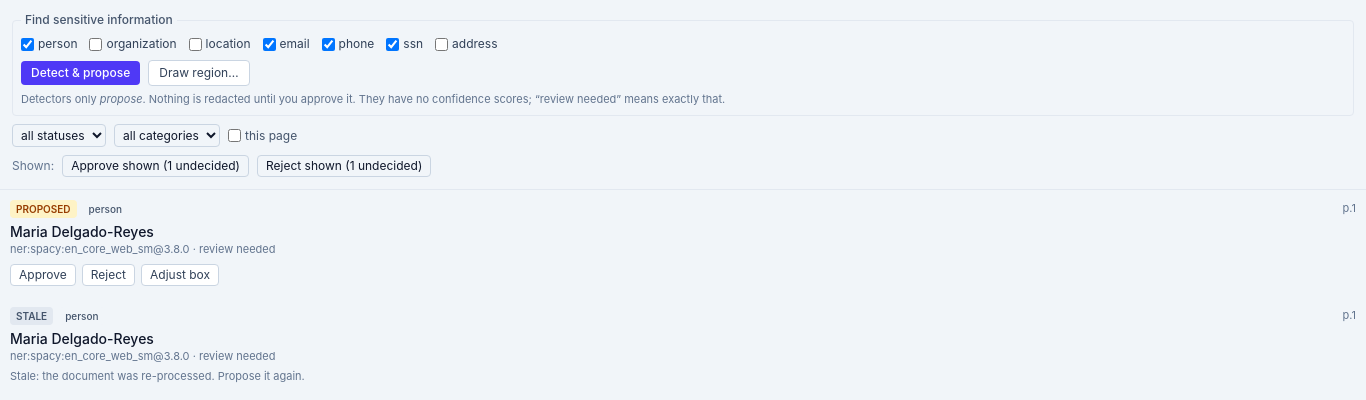
Test: FindingsPanel: bulk buttons never overwrite a decision the reviewer already made › never sends stale findings, even when filtered to "stale"
Select "stale" in the dropdown named "Filter by status" at (59, 136), box [12,124,106,147]
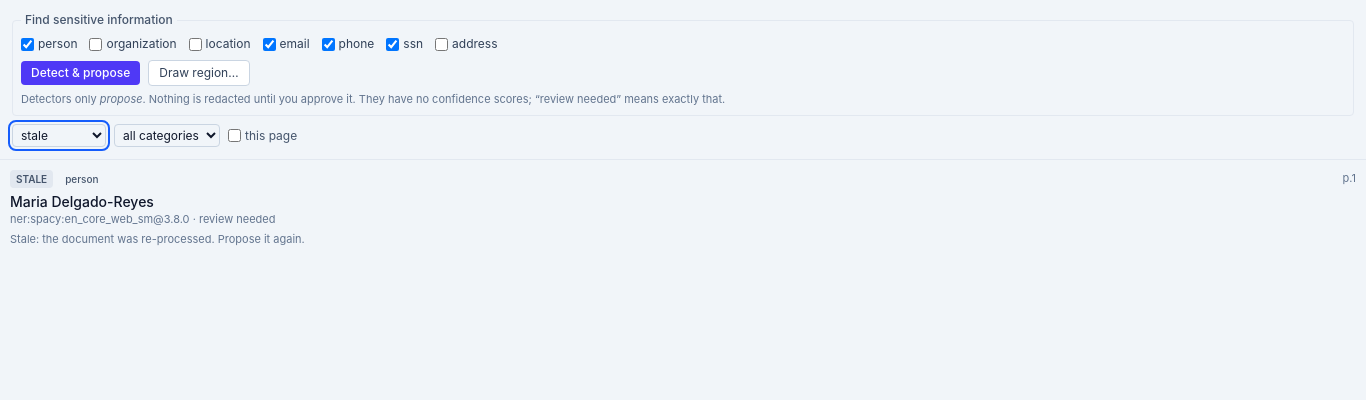
expect the text "Shown" is gone: met
